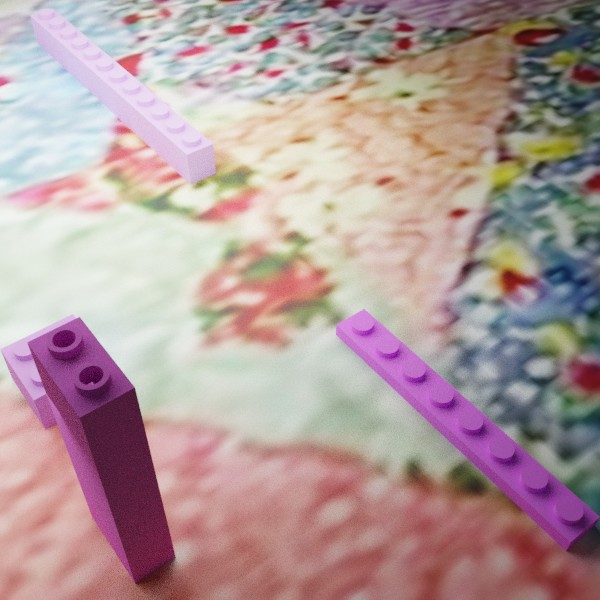lego: (335, 308, 600, 551), (27, 316, 175, 583), (30, 8, 215, 184), (0, 313, 117, 429)
